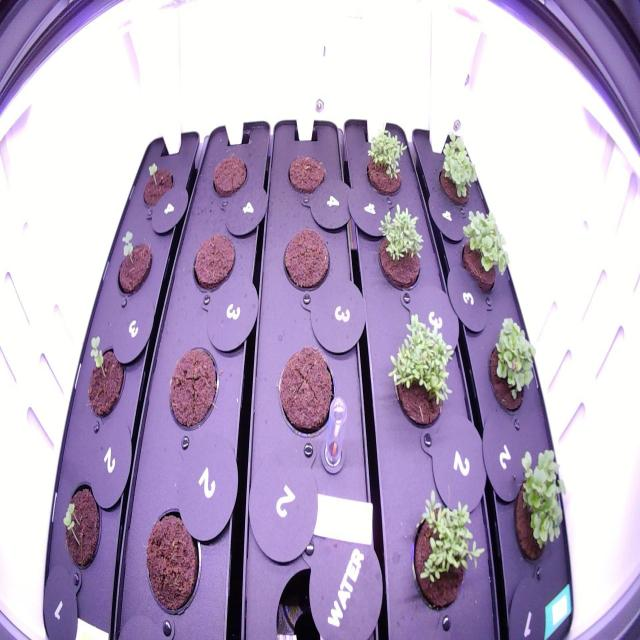germination: (407, 482, 485, 622), (386, 302, 463, 443), (509, 433, 574, 576), (478, 306, 542, 426), (452, 202, 512, 304), (54, 472, 108, 584), (77, 321, 129, 430), (372, 195, 427, 296), (431, 121, 486, 216), (357, 124, 412, 207), (109, 220, 158, 306), (135, 152, 177, 217)
pod: (138, 497, 206, 622), (275, 338, 340, 444), (162, 339, 223, 445), (280, 220, 334, 308), (187, 226, 240, 300), (206, 145, 254, 204), (280, 145, 329, 202)
